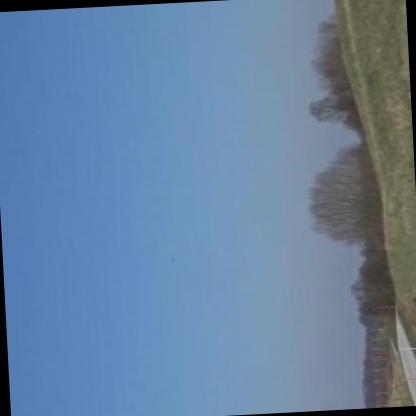plane: (167, 254, 176, 266)
